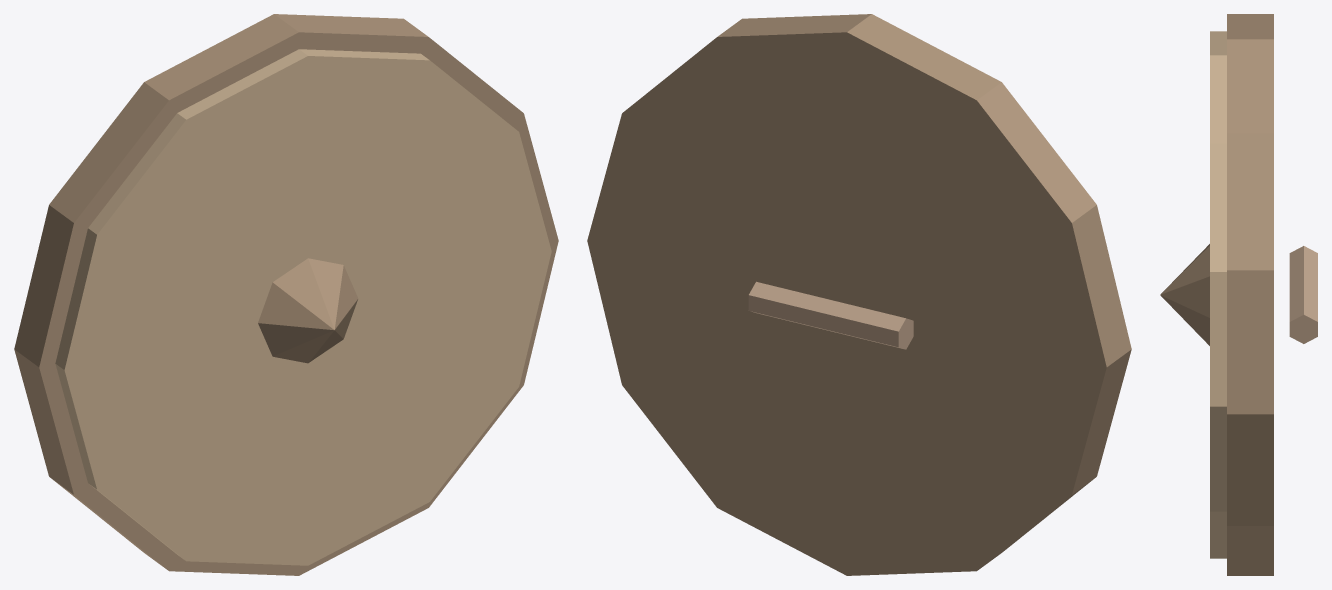
The model's file is shield.glb.
The picture shows the model from 3 angles, left to right: view 1: azimuth 30°, elevation 25°; view 2: azimuth 150°, elevation 25°; view 3: azimuth 270°, elevation 25°; orthographic projection. The views are drawn at different scales.
Parts seen in each view (by area): view 1: shield_wood, shield_iron; view 2: shield_iron, shield_plank; view 3: shield_iron, shield_wood, shield_plank.
Part boxes in pixels (x1,y1,x2,y2): shield_wood: [55, 49, 551, 565]; shield_iron: [14, 14, 558, 575]; shield_iron: [587, 14, 1131, 575]; shield_plank: [748, 281, 913, 349]; shield_iron: [1160, 14, 1273, 575]; shield_wood: [1210, 31, 1226, 558]; shield_plank: [1289, 246, 1317, 343].
Size of the model in its own units: 0.3 by 0.3 by 0.084.
